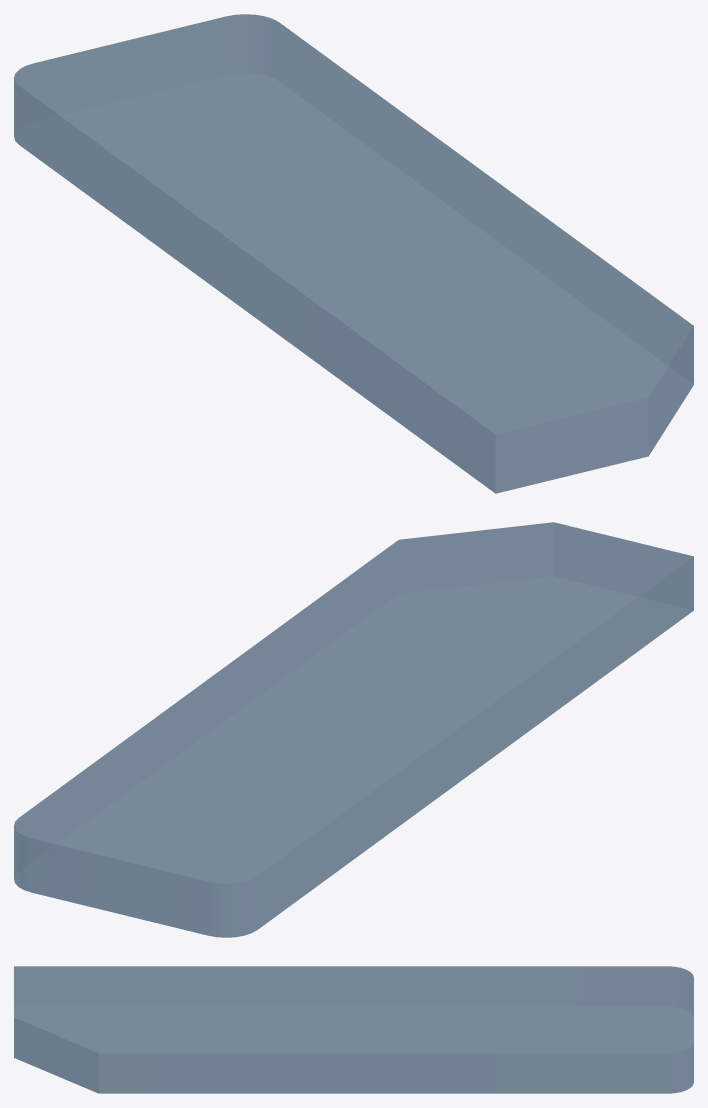
Rendered from Side_Glass_02_LP.fbx.
3 views of the same model, one above another, from view 1: azimuth 30°, elevation 25°; view 2: azimuth 150°, elevation 25°; view 3: azimuth 270°, elevation 25° (orthographic). The views are drawn at different scales.
Parts seen in each view (by area): view 1: Side_Glass_02; view 2: Side_Glass_02; view 3: Side_Glass_02.
Part boxes in pixels (x1,y1,x2,y2): Side_Glass_02: (14, 14, 693, 493); Side_Glass_02: (14, 522, 693, 937); Side_Glass_02: (14, 966, 693, 1093).
Bounding box in the file's own units: 0.4609 × 0.1 × 1.52.
